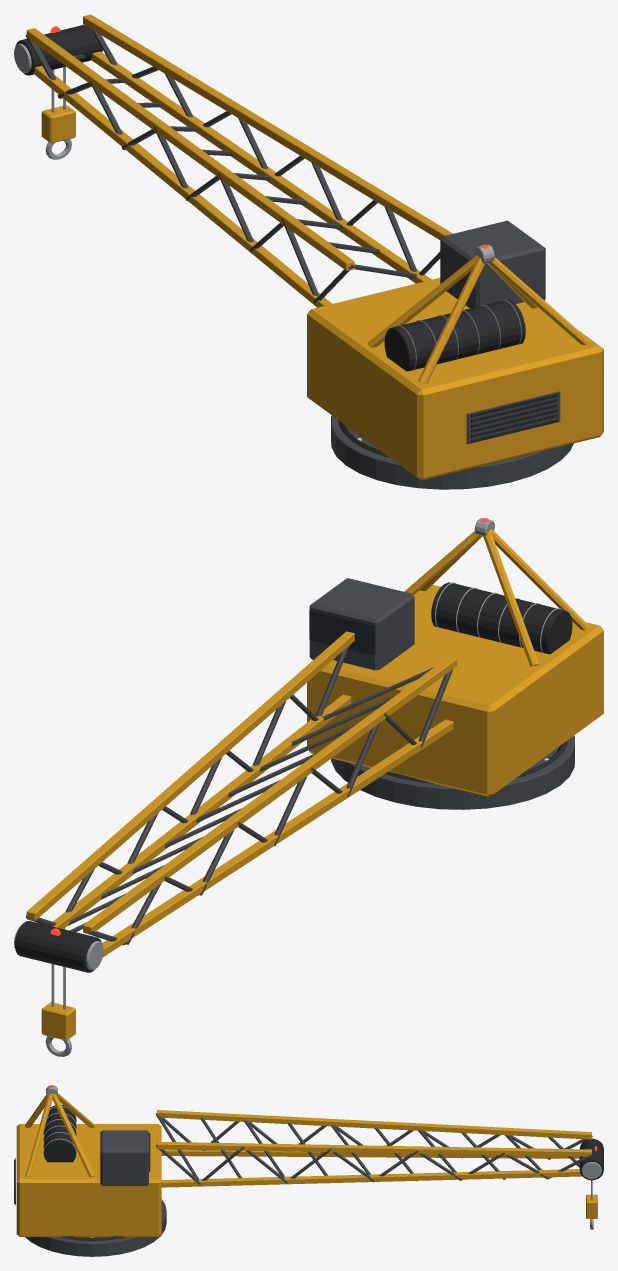
File: crane_boom.glb
3 renders of one model, top to bottom at view 1: azimuth 30°, elevation 25°; view 2: azimuth 150°, elevation 25°; view 3: azimuth 270°, elevation 25°, orthographic. The views are drawn at different scales.
Parts seen in each view (by area): view 1: turret, boom, base, hook; view 2: turret, boom, base, hook; view 3: turret, boom, base, hook.
Part boxes in pixels (box(x1,y1,x2,y2)): turret: box(307, 220, 603, 480); boom: box(14, 14, 452, 307); base: box(331, 415, 573, 489); hook: box(41, 66, 75, 159); turret: box(307, 518, 603, 796); boom: box(14, 631, 457, 972); base: box(331, 735, 574, 809); hook: box(41, 964, 75, 1056); turret: box(14, 1085, 161, 1236); boom: box(155, 1110, 603, 1187); base: box(25, 1199, 166, 1256); hook: box(586, 1180, 597, 1229).
Size of the model in its own units: 1.6 by 1.6 by 6.
